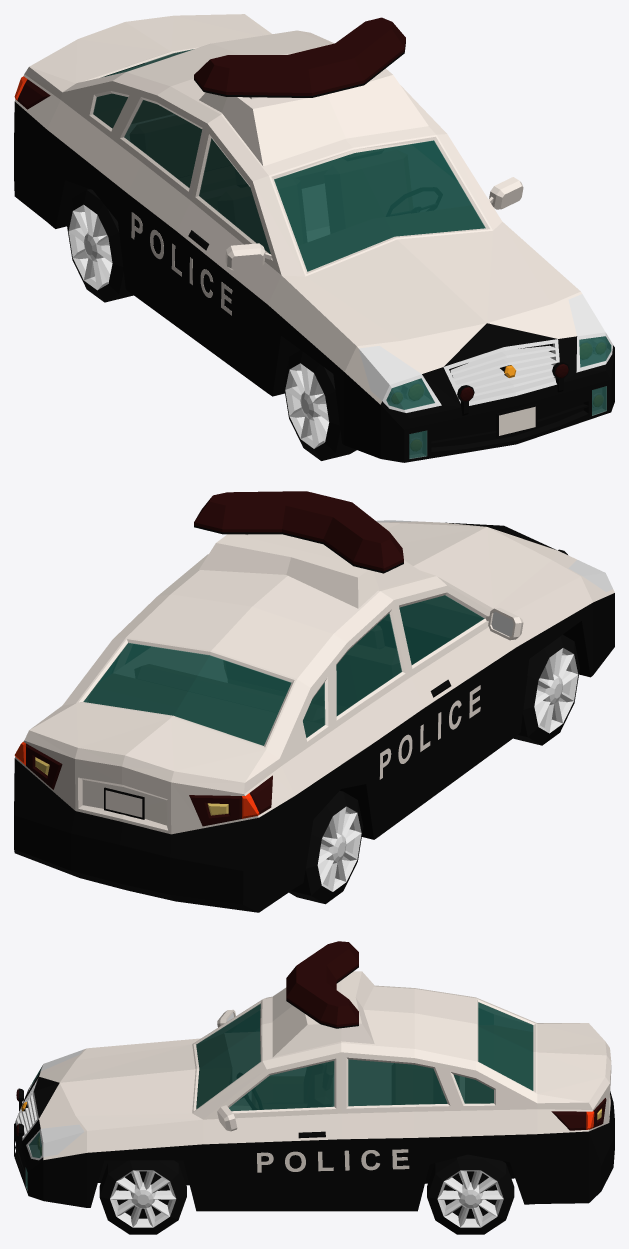
The model's file is PoliceCar_06.FBX.
3 renders of one model, top to bottom at view 1: azimuth 30°, elevation 25°; view 2: azimuth 150°, elevation 25°; view 3: azimuth 270°, elevation 25°, orthographic. The views are drawn at different scales.
Parts seen in each view (by area): view 1: PoliceCar_06, interior, seat_f_l, seat_b, wheel_b_r, wheel_f_r, signalLights_02, grill, seat_f_r, signalLights_01, signalLights_03, lights (+4 smaller); view 2: PoliceCar_06, interior, wheel_b_r, wheel_f_r, signalLights_01, signalLights_02, seat_f_r, seat_b, tailLights, signalLights_03, seat_f_l, licensePlate_b (+2 smaller); view 3: PoliceCar_06, interior, wheel_b_l, wheel_f_l, signalLights_01, seat_b, seat_f_r, signalLights_02, signalLights_03, seat_f_l, tailLights, grill (+1 smaller).
Part boxes in pixels (<box>): PoliceCar_06: <box>14,14,614,462</box>; interior: <box>93,51,485,271</box>; seat_f_l: <box>324,149,412,232</box>; seat_b: <box>130,116,345,208</box>; wheel_b_r: <box>67,189,133,302</box>; wheel_f_r: <box>283,350,356,460</box>; signalLights_02: <box>194,55,568,378</box>; grill: <box>450,345,556,396</box>; seat_f_r: <box>218,169,306,252</box>; signalLights_01: <box>335,17,473,401</box>; signalLights_03: <box>288,43,364,95</box>; lights: <box>194,42,604,451</box>; PoliceCar_06: <box>14,520,614,912</box>; interior: <box>84,595,483,745</box>; wheel_b_r: <box>289,790,363,904</box>; wheel_f_r: <box>513,634,579,745</box>; signalLights_01: <box>194,491,305,532</box>; signalLights_02: <box>323,502,403,571</box>; seat_f_r: <box>337,626,400,714</box>; seat_b: <box>135,664,323,723</box>; tailLights: <box>26,743,272,826</box>; signalLights_03: <box>282,491,351,541</box>; seat_f_l: <box>224,661,323,705</box>; licensePlate_b: <box>104,787,144,819</box>; PoliceCar_06: <box>14,971,614,1211</box>; interior: <box>196,1003,532,1110</box>; wheel_b_l: <box>427,1154,514,1234</box>; wheel_f_l: <box>99,1160,186,1234</box>; signalLights_01: <box>16,982,358,1100</box>; seat_b: <box>392,1064,458,1104</box>; seat_f_r: <box>252,1063,325,1108</box>; signalLights_02: <box>16,941,358,1135</box>; signalLights_03: <box>286,965,336,996</box>; seat_f_l: <box>307,1062,333,1107</box>; tailLights: <box>551,1098,606,1130</box>; grill: <box>18,1083,36,1135</box>.
Bounding box in the file's own units: 25.59 × 59.94 × 23.89.
